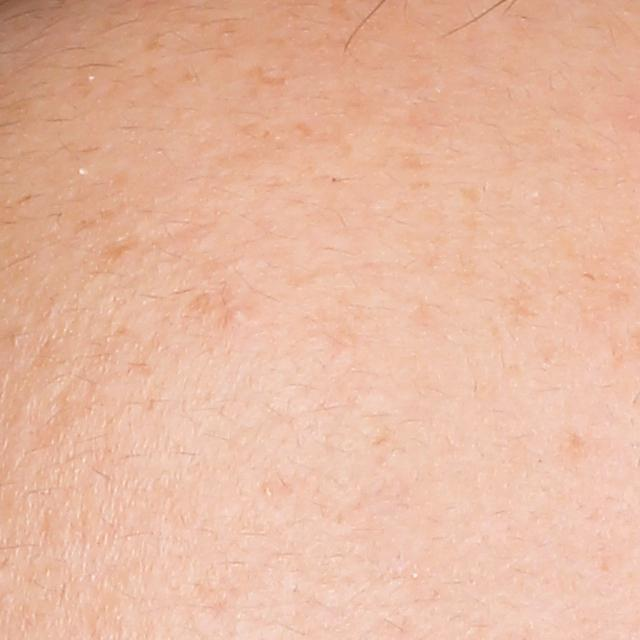comedo: (227, 301, 253, 326), (259, 484, 274, 500)
